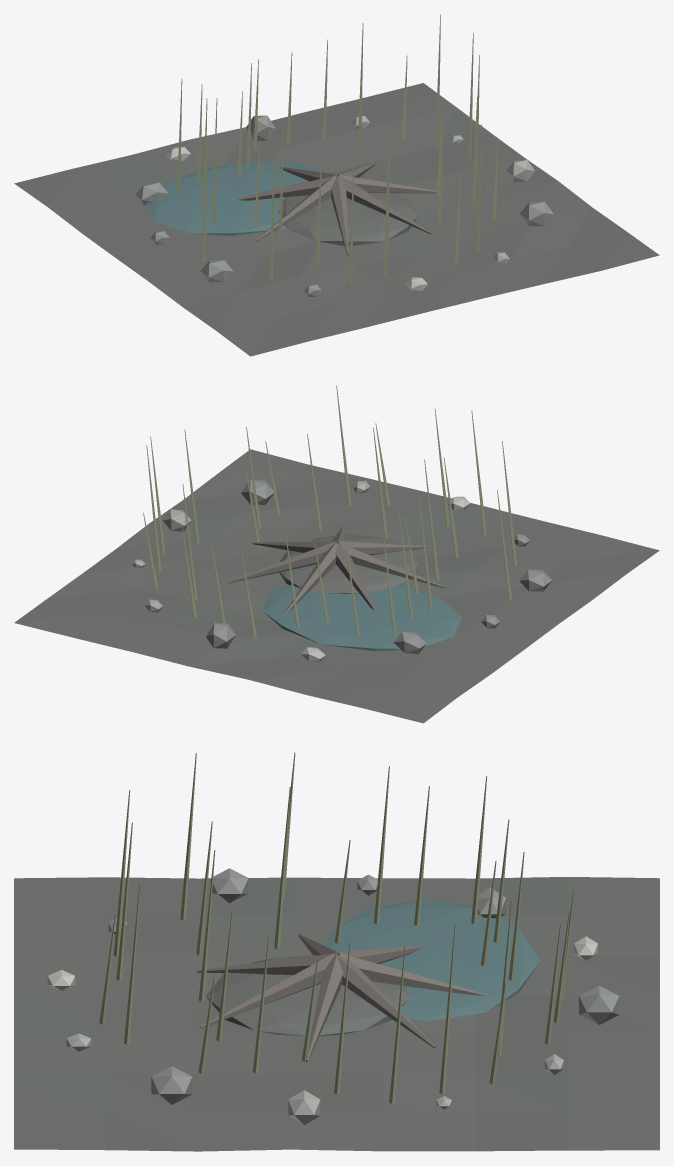
File: tser_reed_den_sealed.glb
The picture shows the model from 3 angles, top to bottom: view 1: azimuth 30°, elevation 25°; view 2: azimuth 150°, elevation 25°; view 3: azimuth 270°, elevation 25°; orthographic projection. The views are drawn at different scales.
Parts seen in each view (by area): view 1: tser_reed_den_sealed_color_00, tser_reed_den_sealed_color_05, tser_reed_den_sealed_color_04, tser_reed_den_sealed_color_06, tser_reed_den_sealed_color_02, tser_reed_den_sealed_color_01; view 2: tser_reed_den_sealed_color_00, tser_reed_den_sealed_color_04, tser_reed_den_sealed_color_05, tser_reed_den_sealed_color_06, tser_reed_den_sealed_color_02, tser_reed_den_sealed_color_01, tser_reed_den_sealed_color_03; view 3: tser_reed_den_sealed_color_00, tser_reed_den_sealed_color_05, tser_reed_den_sealed_color_04, tser_reed_den_sealed_color_06, tser_reed_den_sealed_color_02, tser_reed_den_sealed_color_01, tser_reed_den_sealed_color_03.
Part boxes in pixels (x1=…): tser_reed_den_sealed_color_00: x1=14, y1=83, x2=659, y2=356; tser_reed_den_sealed_color_05: x1=176, y1=14, x2=498, y2=285; tser_reed_den_sealed_color_04: x1=146, y1=161, x2=327, y2=235; tser_reed_den_sealed_color_06: x1=234, y1=162, x2=443, y2=255; tser_reed_den_sealed_color_02: x1=135, y1=115, x2=553, y2=296; tser_reed_den_sealed_color_01: x1=352, y1=116, x2=534, y2=264; tser_reed_den_sealed_color_00: x1=14, y1=449, x2=659, y2=723; tser_reed_den_sealed_color_04: x1=262, y1=583, x2=461, y2=651; tser_reed_den_sealed_color_05: x1=143, y1=385, x2=517, y2=637; tser_reed_den_sealed_color_06: x1=226, y1=526, x2=444, y2=614; tser_reed_den_sealed_color_02: x1=206, y1=480, x2=552, y2=654; tser_reed_den_sealed_color_01: x1=131, y1=480, x2=369, y2=612; tser_reed_den_sealed_color_03: x1=301, y1=496, x2=469, y2=662; tser_reed_den_sealed_color_00: x1=14, y1=877, x2=659, y2=1151; tser_reed_den_sealed_color_05: x1=99, y1=752, x2=574, y2=1103; tser_reed_den_sealed_color_04: x1=324, y1=899, x2=540, y2=1021; tser_reed_den_sealed_color_06: x1=197, y1=934, x2=488, y2=1062; tser_reed_den_sealed_color_02: x1=108, y1=868, x2=619, y2=1104; tser_reed_den_sealed_color_01: x1=66, y1=1033, x2=563, y2=1125; tser_reed_den_sealed_color_03: x1=47, y1=936, x2=597, y2=990.
Size of the model in its own units: 3.93 by 1.28 by 3.93.
